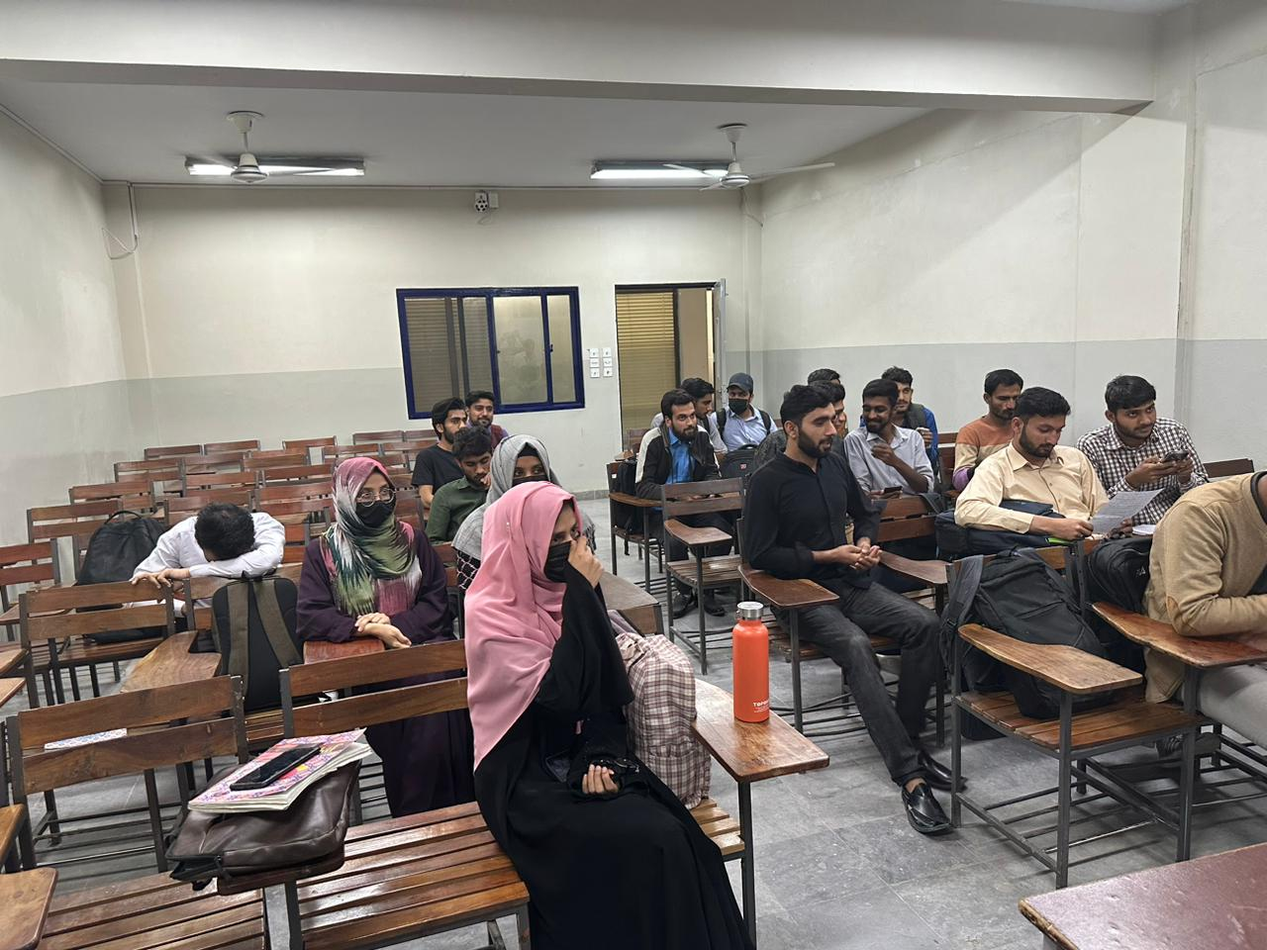non-cheating: (477, 475, 600, 610), (327, 454, 402, 541), (774, 381, 845, 462), (1006, 384, 1070, 460), (1099, 372, 1160, 440), (450, 426, 496, 491), (658, 388, 705, 447), (980, 366, 1022, 420), (429, 399, 469, 443), (723, 370, 756, 416), (464, 388, 496, 429)
phone: (1124, 443, 1197, 486), (863, 477, 906, 505)
